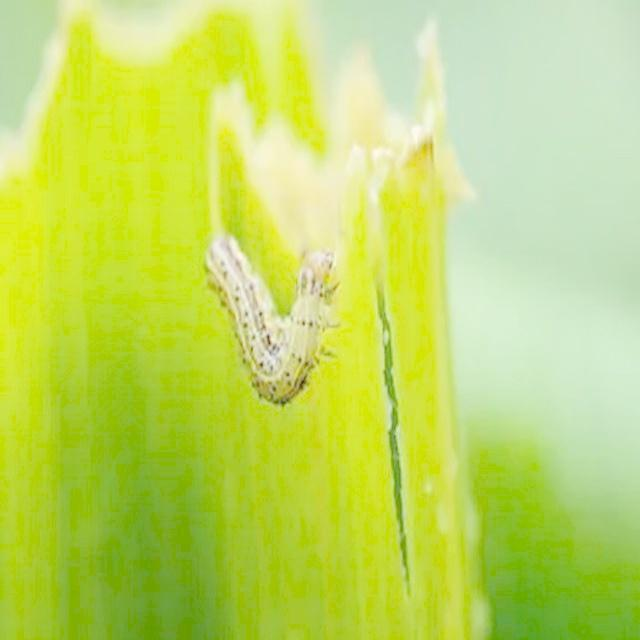gusano_cogollero: (208, 224, 346, 412)
